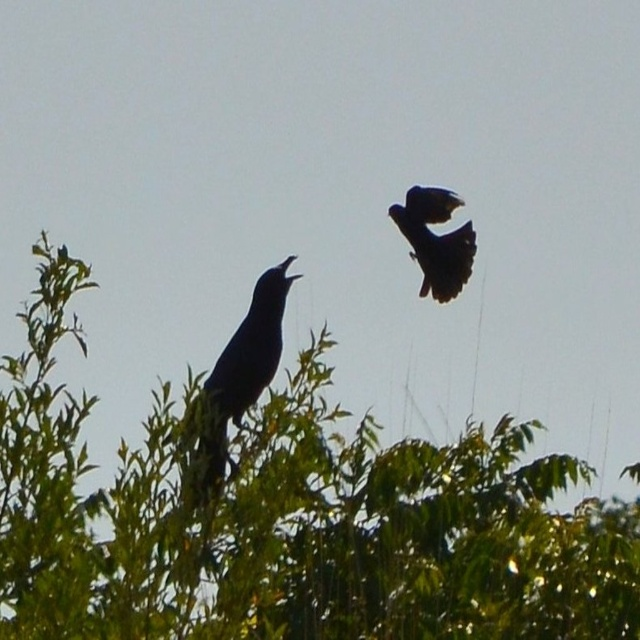Raven: (161, 254, 304, 481), (388, 185, 477, 305)
